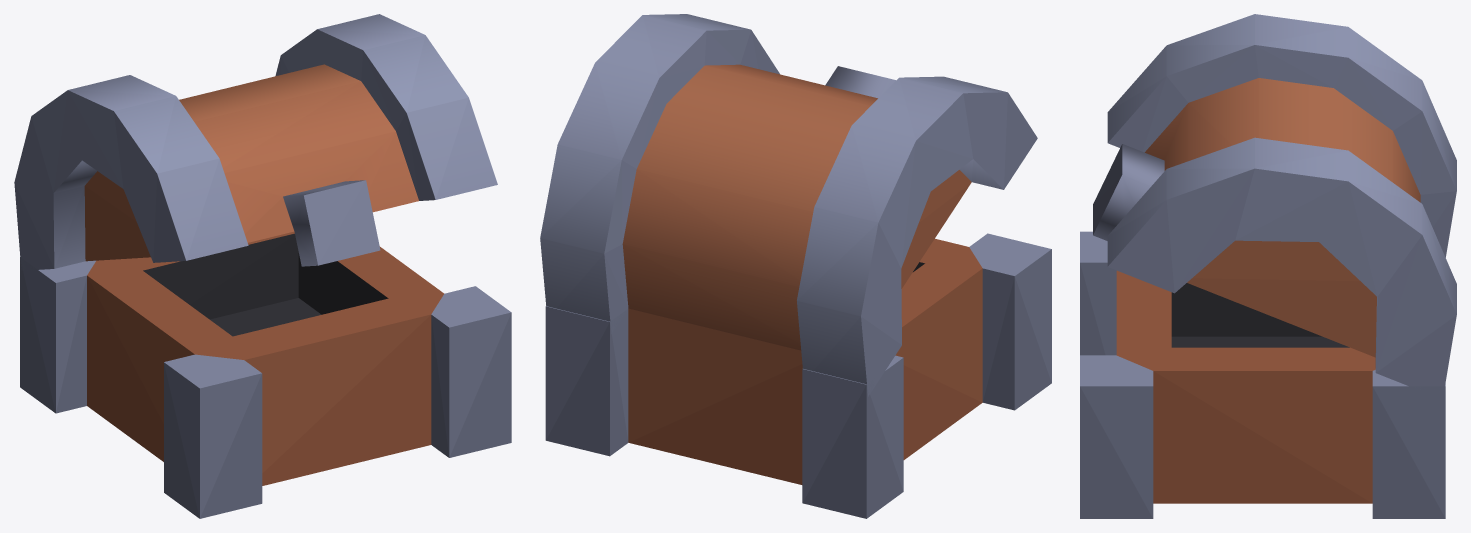
The model's file is pirate_chest.glb.
3 views of the same model, side by side, from view 1: azimuth 30°, elevation 25°; view 2: azimuth 150°, elevation 25°; view 3: azimuth 270°, elevation 25° (orthographic). The views are drawn at different scales.
Visible parts, largest first — view 1: pirate_chest; view 2: pirate_chest; view 3: pirate_chest.
Part boxes in pixels (x1,y1,x2,y2): pirate_chest: [14, 14, 511, 518]; pirate_chest: [540, 14, 1051, 518]; pirate_chest: [1080, 14, 1456, 518].
Bounding box in the file's own units: 1.27 × 1.35 × 1.31.
